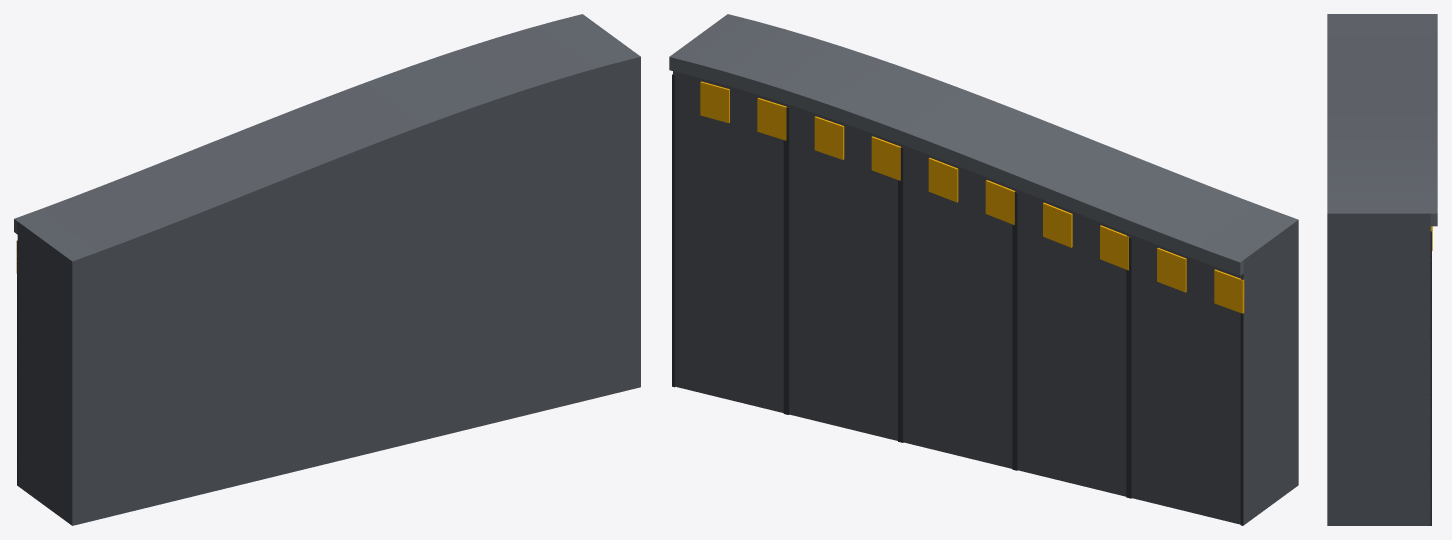
3 views of the same model, side by side, from view 1: azimuth 30°, elevation 25°; view 2: azimuth 150°, elevation 25°; view 3: azimuth 270°, elevation 25° (orthographic). The views are drawn at different scales.
Visible parts, largest first — view 1: e0w; view 2: e0w; view 3: e0w.
Part boxes in pixels (<box>): e0w: <box>14,14,640,525</box>; e0w: <box>669,14,1298,525</box>; e0w: <box>1327,14,1437,525</box>.
Bounding box in the file's own units: 9 × 5 × 1.6.
